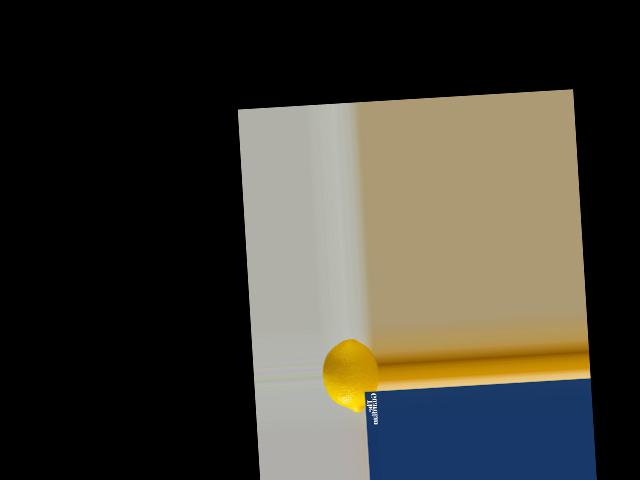lemon: (320, 333, 381, 418)
